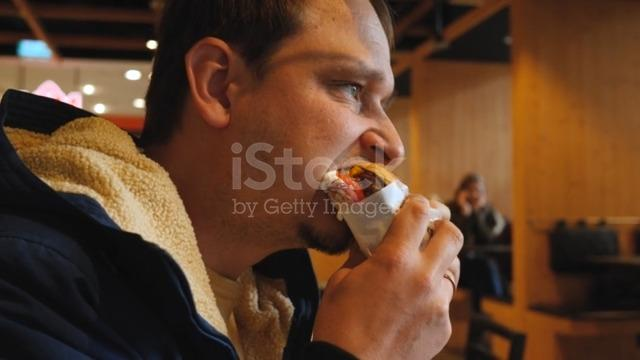Eating: (176, 3, 514, 360)
